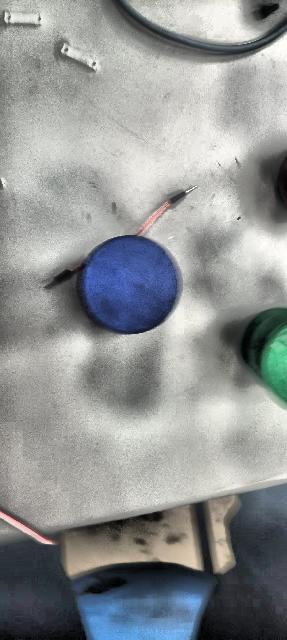blue: (81, 234, 182, 334)
green: (241, 309, 287, 411)
